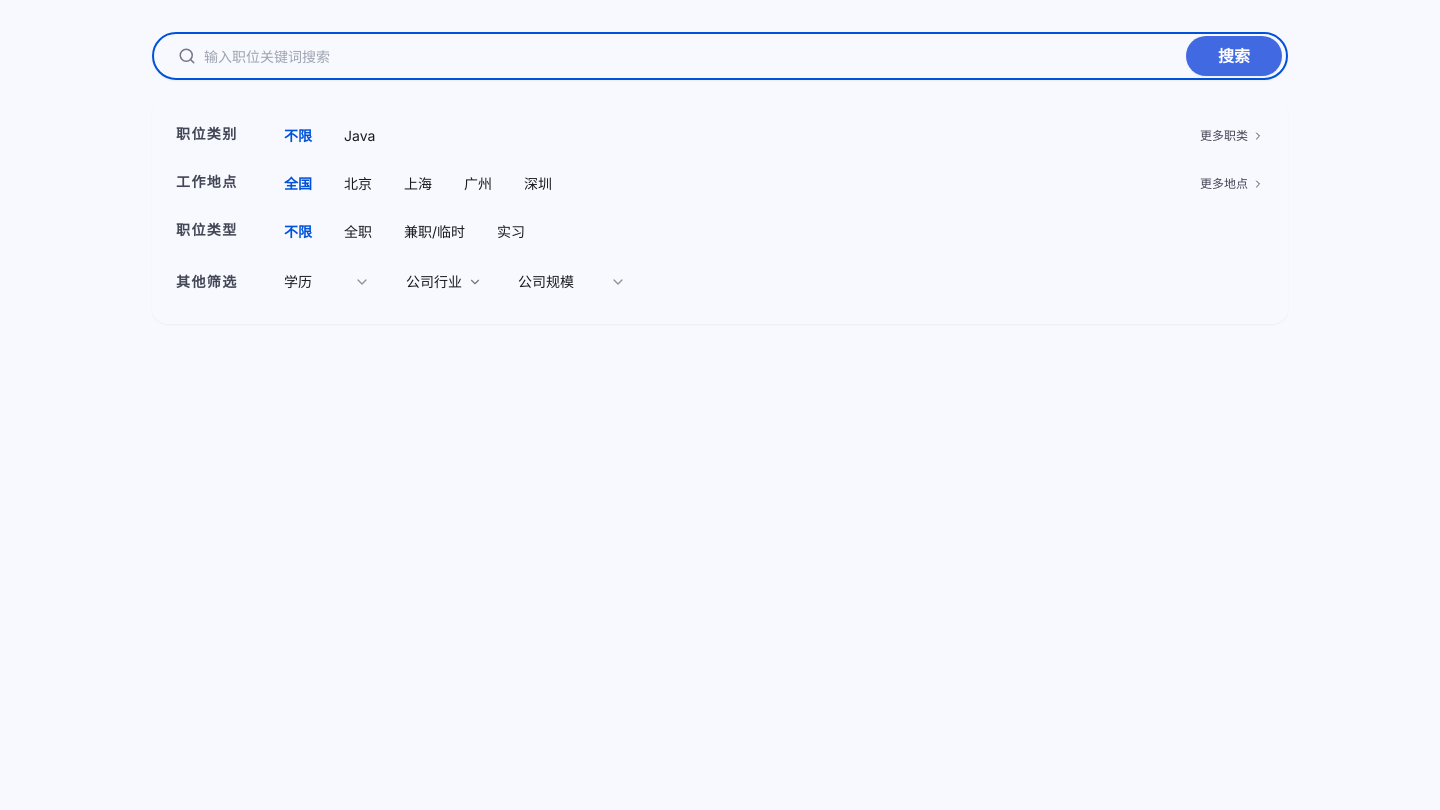
it: user jobs page filters › loads province-city options from public api for location modal
The width and height of the screenshot is (1440, 810).
Click the button "更多地点".
click(1232, 184)  # box top-left (1200, 176), bottom-right (1264, 192)
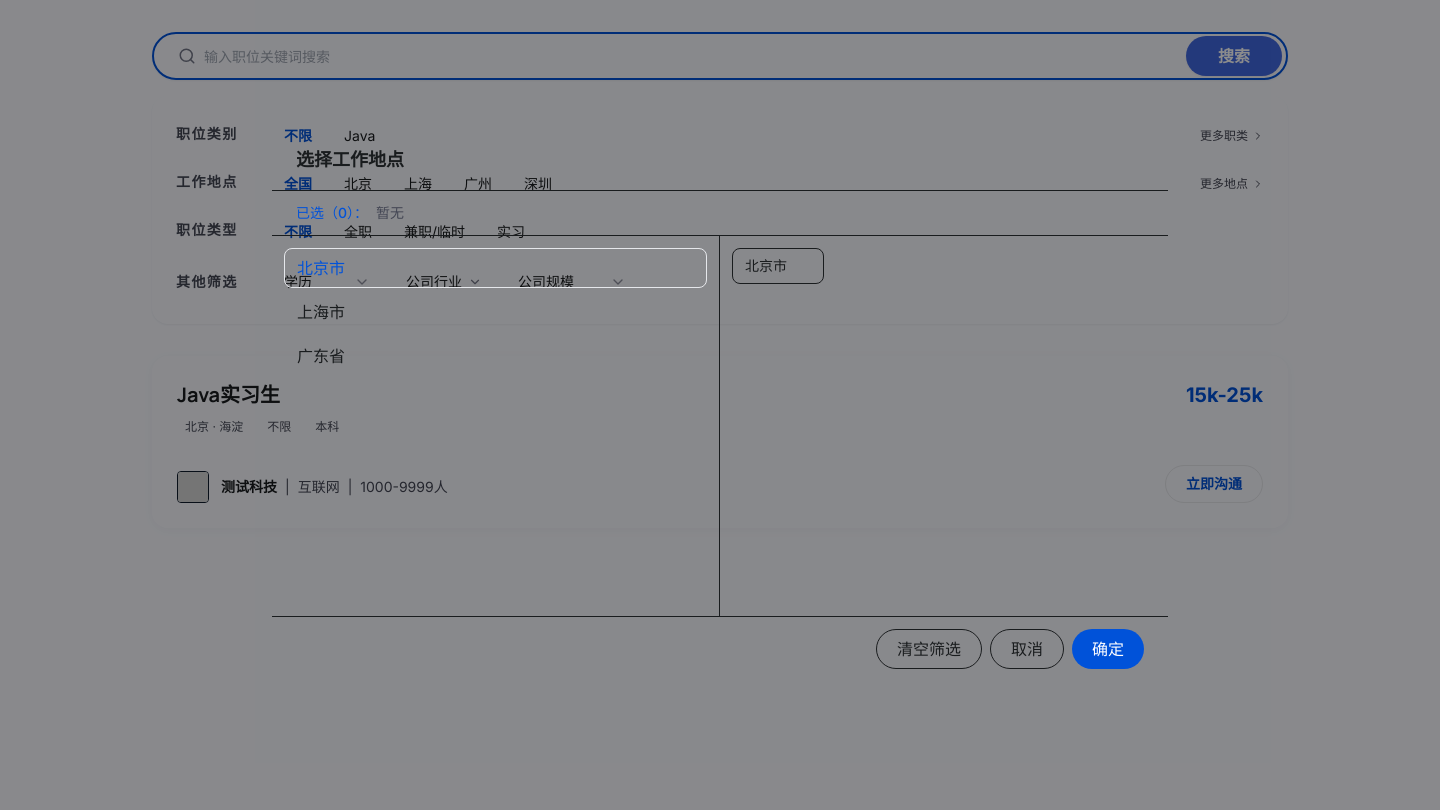
Result: the 1st button "北京市" is shown at top-left (284, 248), bottom-right (707, 288)
Click the button "广东省".
click(321, 356)  # box top-left (284, 336), bottom-right (707, 376)
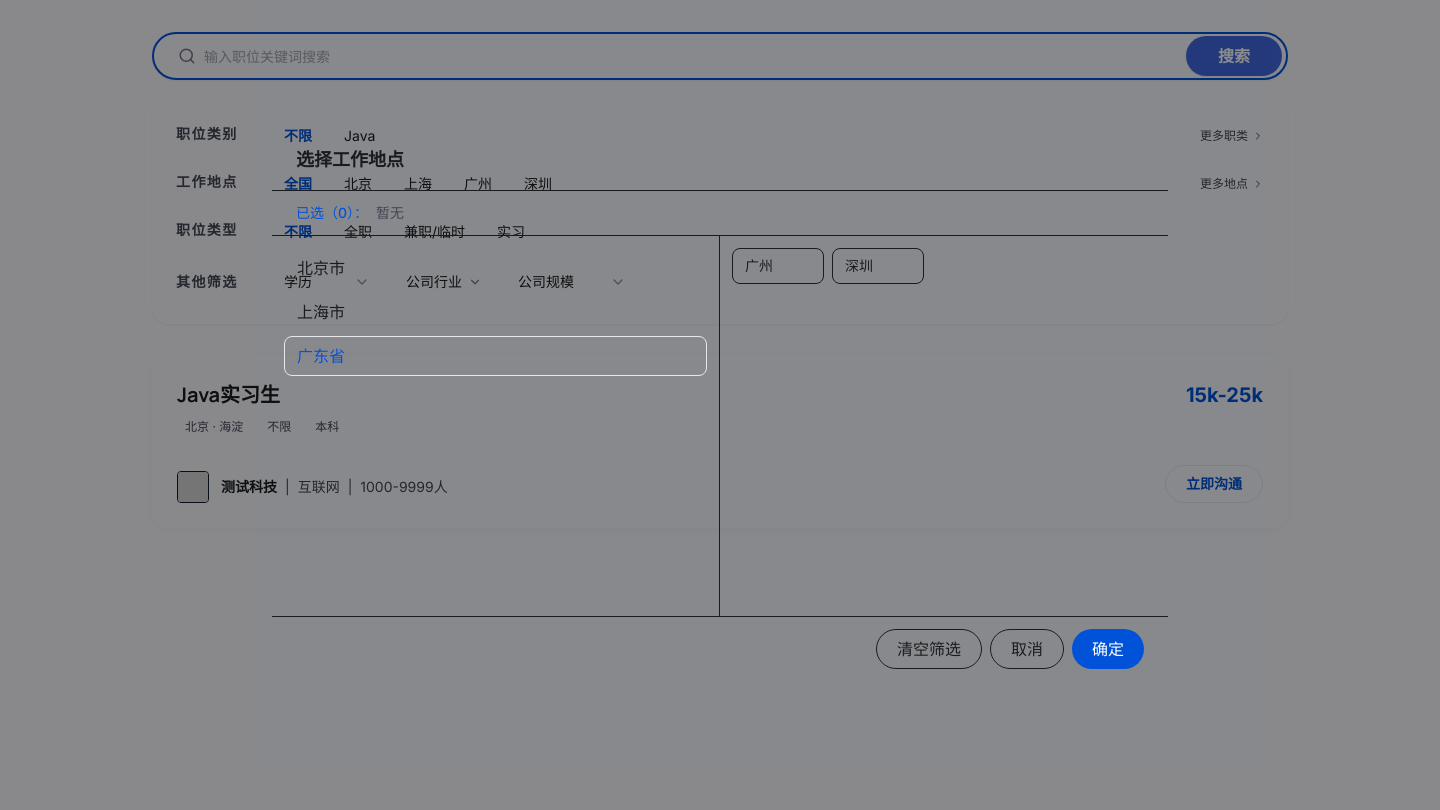
Result: the button "广州" is shown at top-left (732, 248), bottom-right (824, 284)
Result: the button "深圳" is shown at top-left (832, 248), bottom-right (924, 284)
